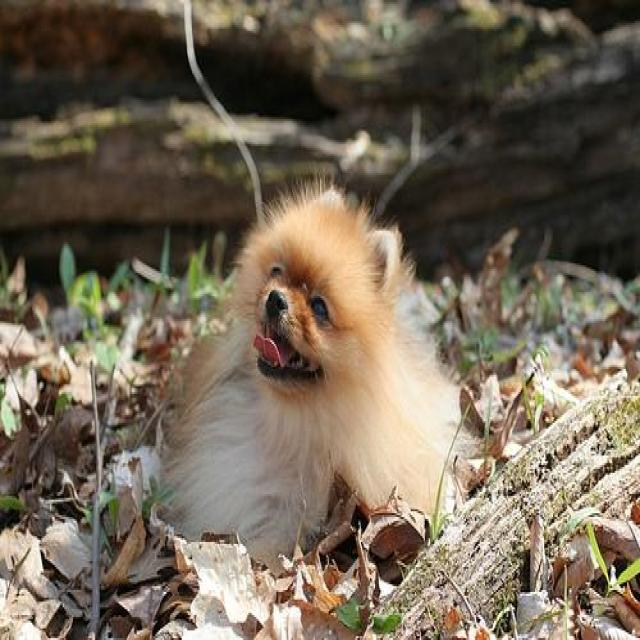happy: (145, 165, 468, 554)
